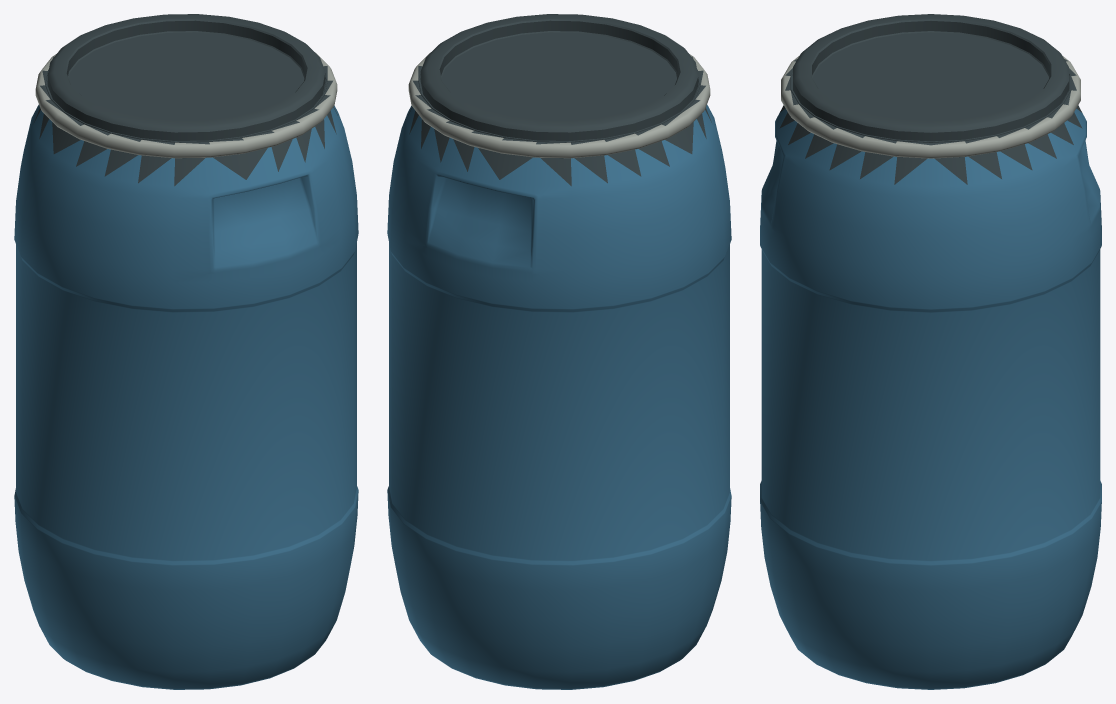
The model's file is parts.gltf.
3 views of the same model, side by side, from view 1: azimuth 30°, elevation 25°; view 2: azimuth 150°, elevation 25°; view 3: azimuth 270°, elevation 25° (orthographic).
Visible parts, largest first — view 1: Barrel_02; view 2: Barrel_02; view 3: Barrel_02.
Part boxes in pixels (x1,y1,x2,y2): Barrel_02: (14,14,358,689); Barrel_02: (387,14,731,689); Barrel_02: (760,14,1101,689).
Size of the model in its own units: 0.4882 by 0.88 by 0.4846.
